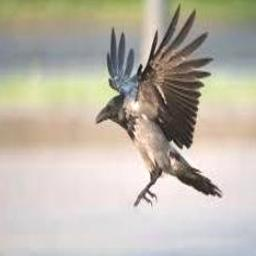Crow: (96, 4, 224, 206)
